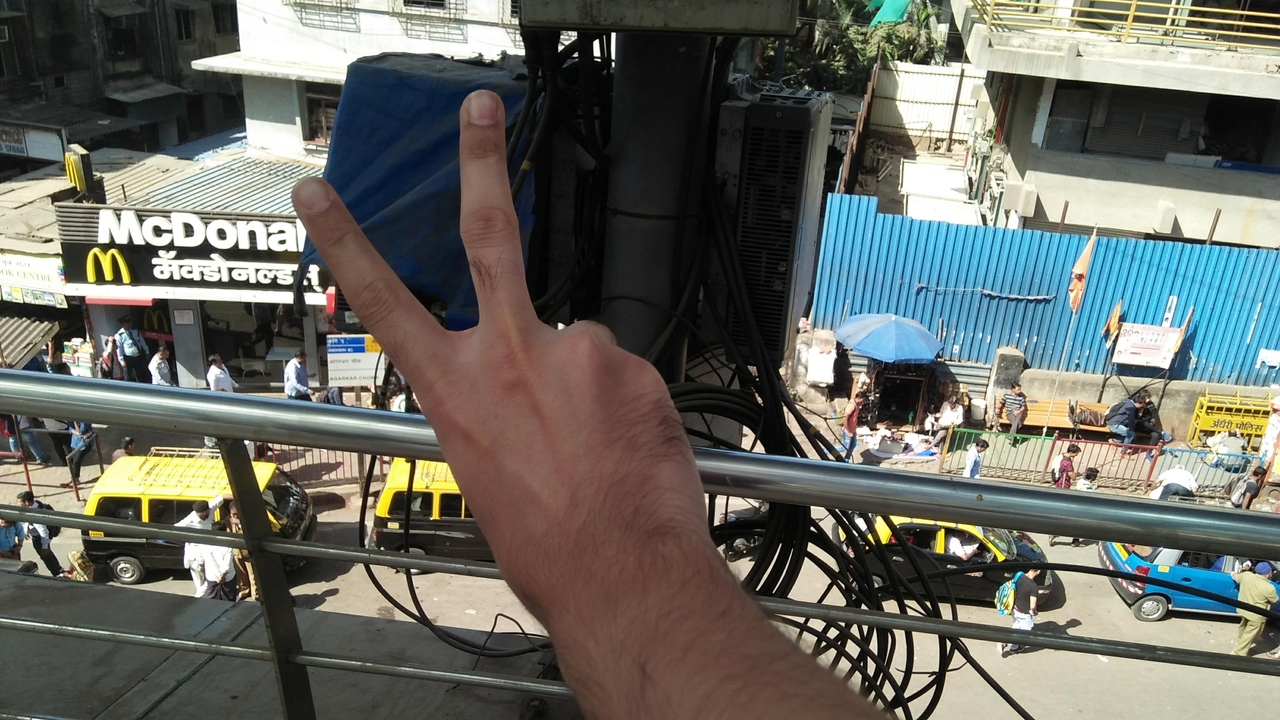fingertip: (446, 80, 508, 136), (278, 168, 338, 220)
